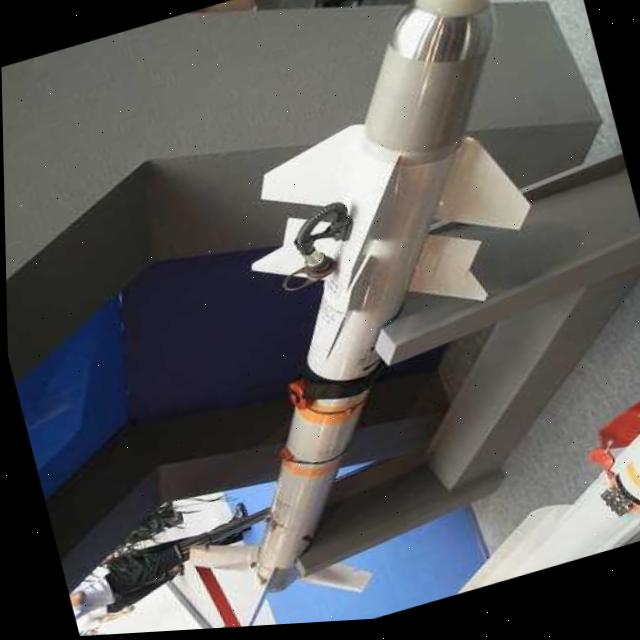missile: (71, 0, 624, 637)
